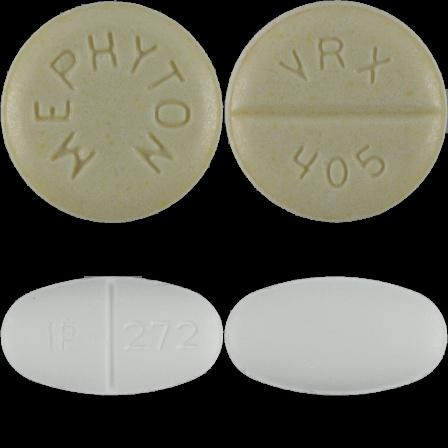0179-0133: (0, 0, 224, 224)
